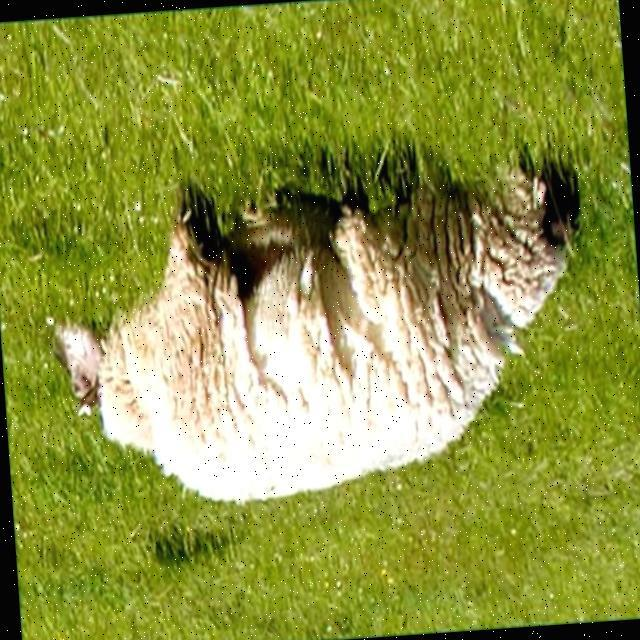sheep: (59, 148, 571, 505)
